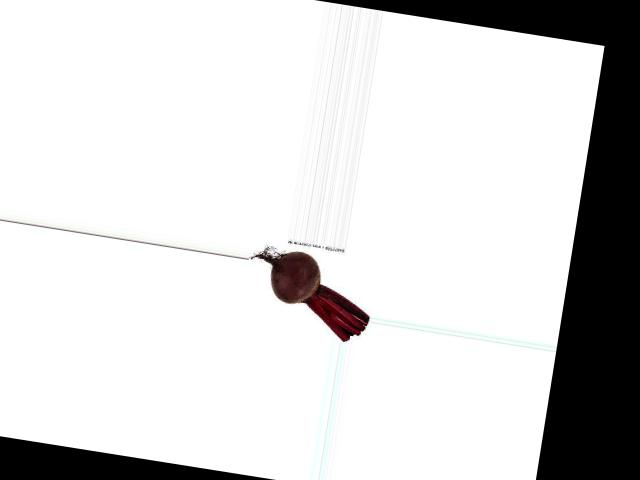beet: (240, 244, 378, 344)
